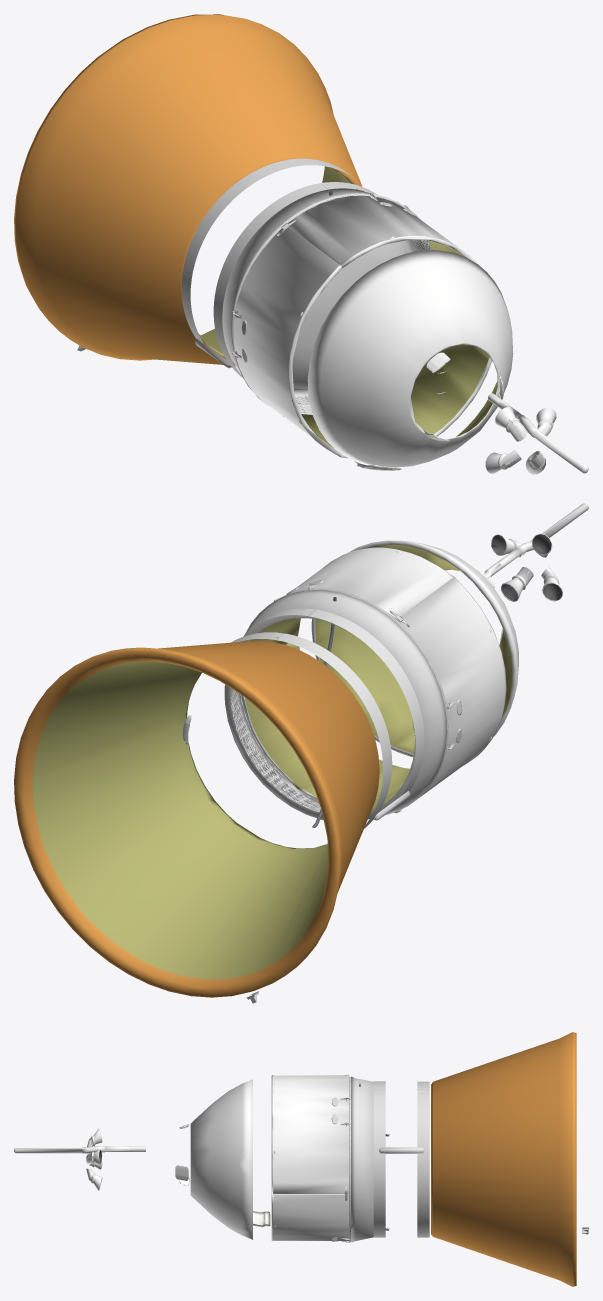
Rendered from sls-upper-stack.glb.
The picture shows the model from 3 angles, top to bottom: view 1: azimuth 30°, elevation 25°; view 2: azimuth 150°, elevation 25°; view 3: azimuth 270°, elevation 25°; orthographic projection. The views are drawn at different scales.
Parts seen in each view (by area): view 1: NASA SLS upper stack · ICPS + Orion; view 2: NASA SLS upper stack · ICPS + Orion; view 3: NASA SLS upper stack · ICPS + Orion.
Part boxes in pixels (left/top/right/bottom): NASA SLS upper stack · ICPS + Orion: left=14, top=14, right=588, bottom=474; NASA SLS upper stack · ICPS + Orion: left=14, top=503, right=588, bottom=1003; NASA SLS upper stack · ICPS + Orion: left=14, top=1032, right=588, bottom=1286.
Size of the model in its own units: 8.39 by 8.39 by 18.92.
